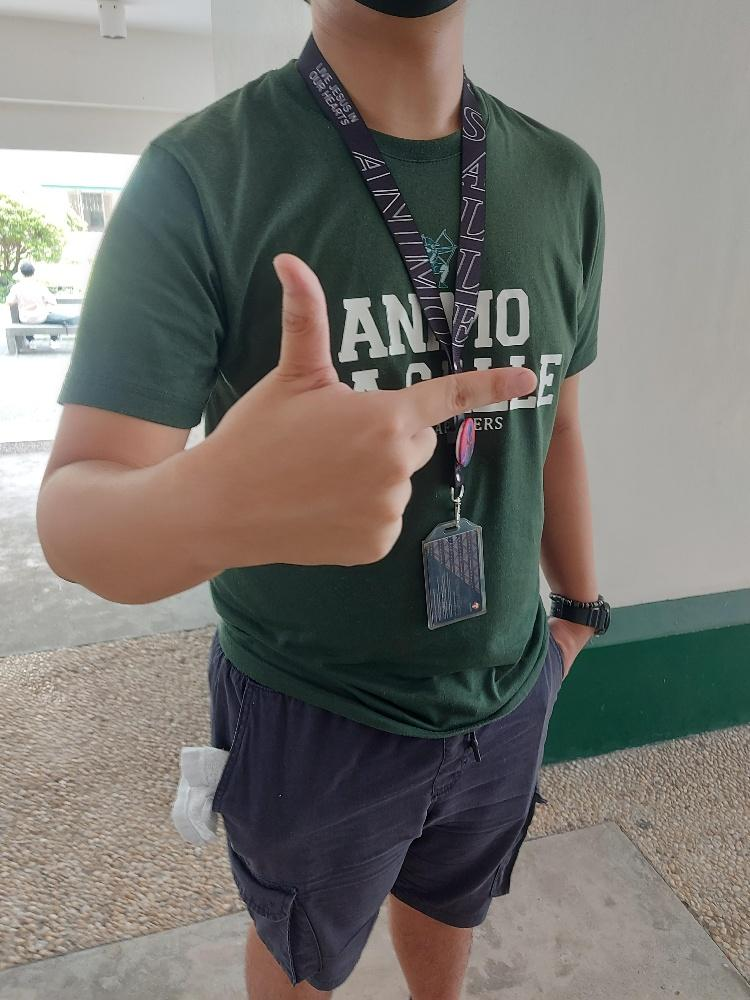g: (217, 250, 542, 567)
